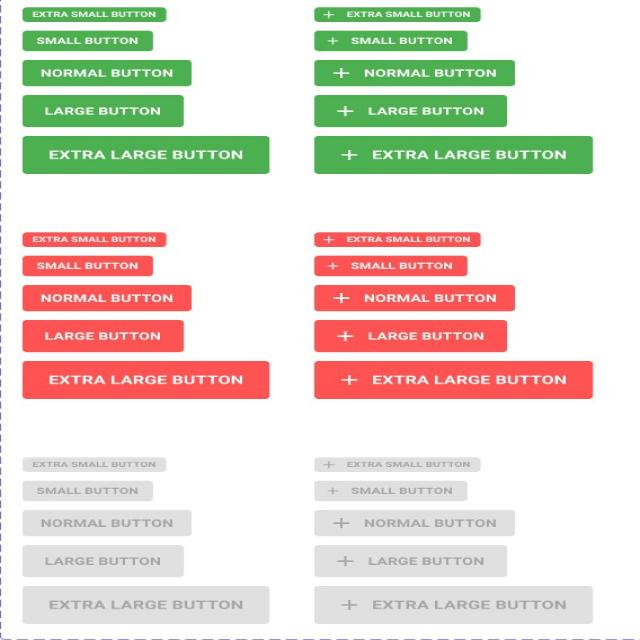QLabel: (363, 598, 568, 610), (46, 599, 251, 611), (45, 149, 249, 161), (367, 374, 569, 386), (367, 149, 566, 161), (45, 374, 248, 385), (365, 330, 486, 342), (34, 293, 178, 303), (34, 518, 178, 528), (354, 293, 496, 303), (35, 68, 176, 78), (358, 518, 498, 528), (361, 68, 494, 78), (39, 556, 168, 566), (40, 331, 168, 341), (362, 106, 488, 116), (40, 106, 166, 116), (362, 556, 488, 566), (31, 10, 157, 19), (26, 460, 161, 468), (341, 460, 473, 468), (30, 486, 147, 495), (29, 235, 160, 243), (341, 235, 472, 243), (350, 36, 454, 46), (342, 10, 470, 18), (344, 261, 457, 270), (31, 261, 144, 270), (32, 36, 144, 45), (345, 486, 456, 495)
VBtn: (313, 135, 594, 175), (313, 585, 594, 625), (314, 360, 594, 400), (21, 360, 270, 400), (22, 135, 270, 175), (22, 585, 270, 625), (314, 94, 508, 128), (314, 319, 508, 353), (314, 545, 508, 578), (313, 509, 516, 537), (314, 59, 516, 87), (314, 284, 516, 312), (22, 94, 185, 128), (22, 319, 184, 353), (22, 544, 184, 578), (22, 284, 193, 312), (22, 59, 192, 87), (22, 509, 192, 537), (313, 480, 469, 502), (314, 30, 468, 52), (314, 255, 468, 277), (22, 30, 154, 52), (22, 255, 154, 277), (22, 480, 154, 502), (314, 6, 481, 23), (314, 457, 482, 473), (314, 232, 481, 247), (22, 6, 167, 22), (22, 457, 167, 473), (22, 232, 166, 248)
VIcon: (336, 105, 354, 117), (336, 331, 354, 343), (335, 555, 354, 566), (341, 598, 358, 610), (332, 67, 349, 78), (340, 150, 358, 160), (340, 375, 358, 385), (332, 518, 349, 528), (333, 293, 349, 303), (322, 10, 335, 19), (322, 236, 335, 244), (326, 487, 338, 495), (322, 461, 335, 468), (326, 263, 338, 270), (328, 37, 338, 45)
